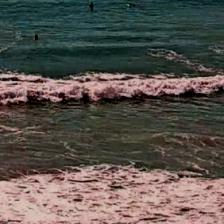surfer: (89, 2, 95, 10), (33, 34, 39, 41), (128, 3, 136, 8)
